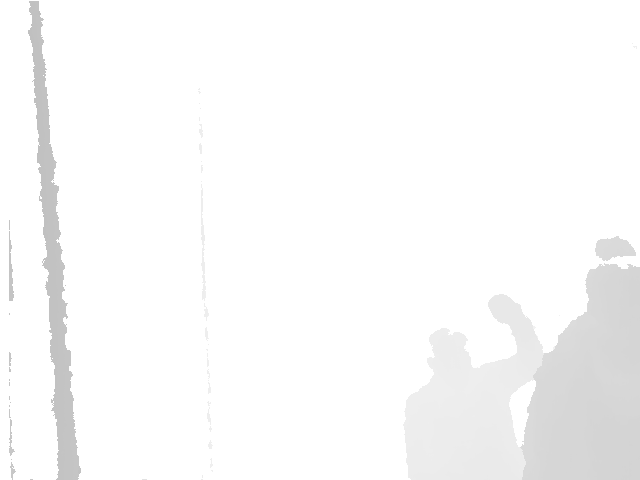hand: (490, 295, 528, 328)
head: (586, 237, 640, 329), (428, 327, 473, 377)
person: (519, 237, 640, 480), (403, 293, 547, 480)
